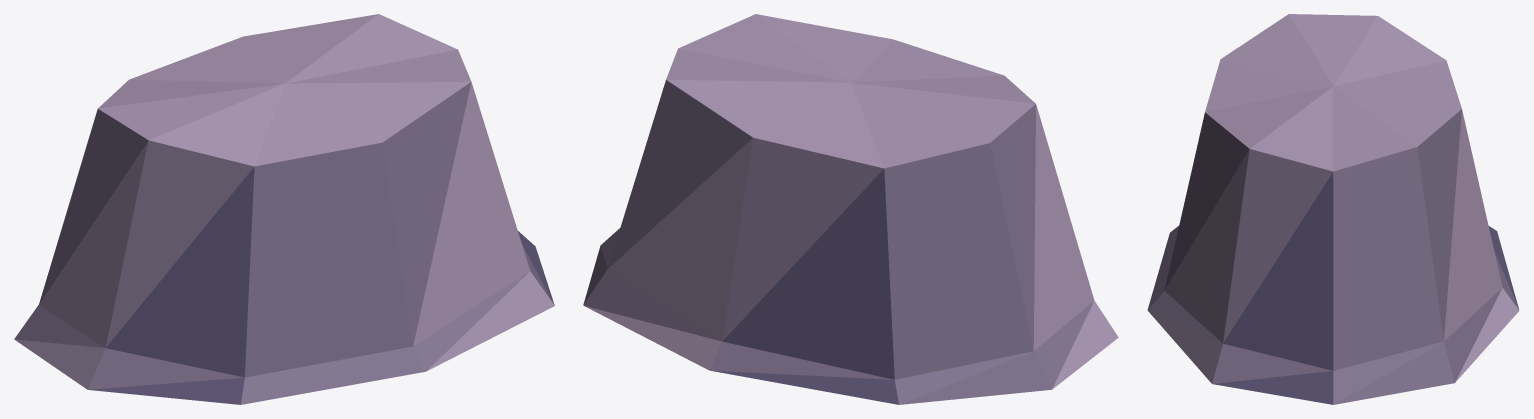
The picture shows the model from 3 angles, left to right: view 1: azimuth 30°, elevation 25°; view 2: azimuth 150°, elevation 25°; view 3: azimuth 270°, elevation 25°; orthographic projection. The views are drawn at different scales.
Parts seen in each view (by area): view 1: 错层台地_3.001; view 2: 错层台地_3.001; view 3: 错层台地_3.001.
Part boxes in pixels (x1,y1,x2,y2): 错层台地_3.001: [14, 14, 554, 404]; 错层台地_3.001: [583, 14, 1118, 404]; 错层台地_3.001: [1147, 14, 1519, 404].
Size of the model in its own units: 0.8731 by 0.3878 by 0.6283.
